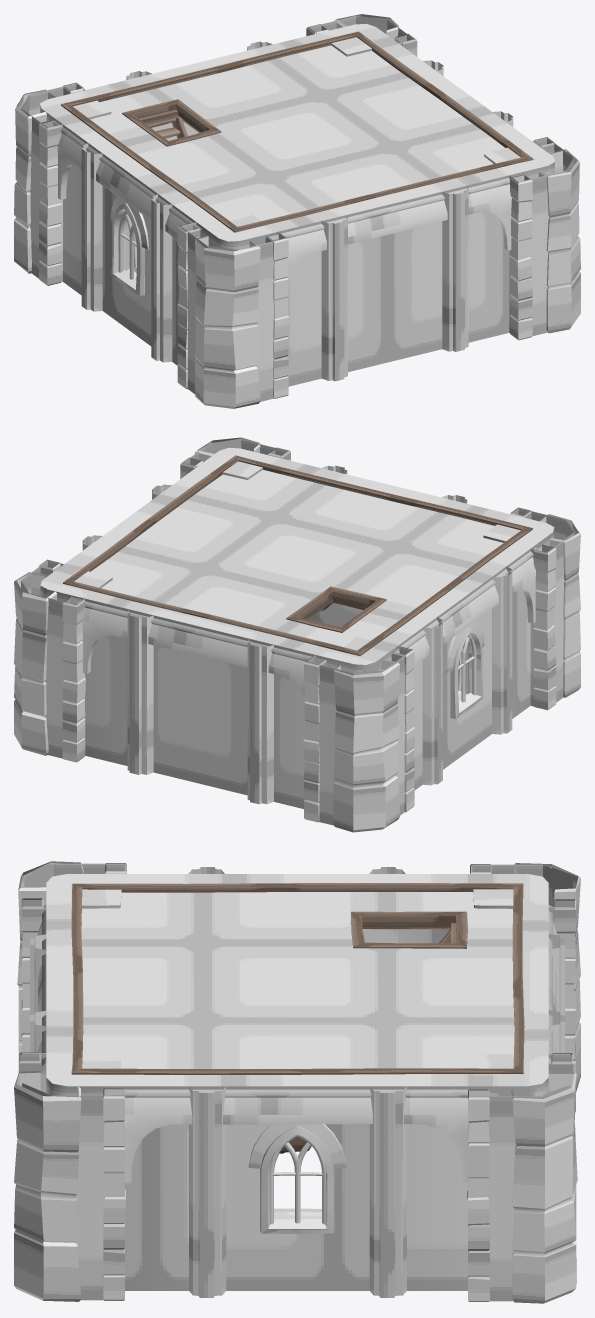
The model's file is SM_TowerF_Mid2Window.fbx.
The picture shows the model from 3 angles, top to bottom: view 1: azimuth 30°, elevation 25°; view 2: azimuth 150°, elevation 25°; view 3: azimuth 270°, elevation 25°; orthographic projection. The views are drawn at different scales.
Visible parts, largest first — view 1: SM_TowerF_Mid2Window_LOD0; view 2: SM_TowerF_Mid2Window_LOD0; view 3: SM_TowerF_Mid2Window_LOD0.
Boxes of the visible parts, x1,y1,x2,y2 form: SM_TowerF_Mid2Window_LOD0: [14, 14, 580, 408]; SM_TowerF_Mid2Window_LOD0: [14, 437, 580, 832]; SM_TowerF_Mid2Window_LOD0: [14, 861, 580, 1303].
Size of the model in its own units: 1129 by 1129 by 467.
